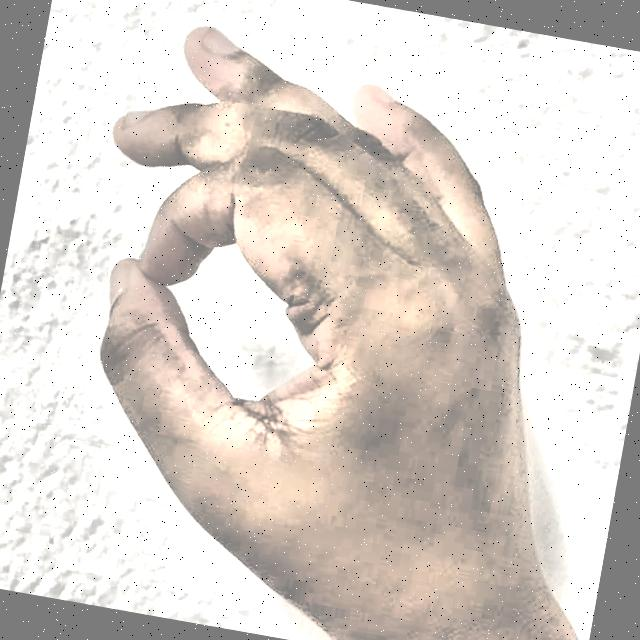Yo: (11, 0, 635, 640)
